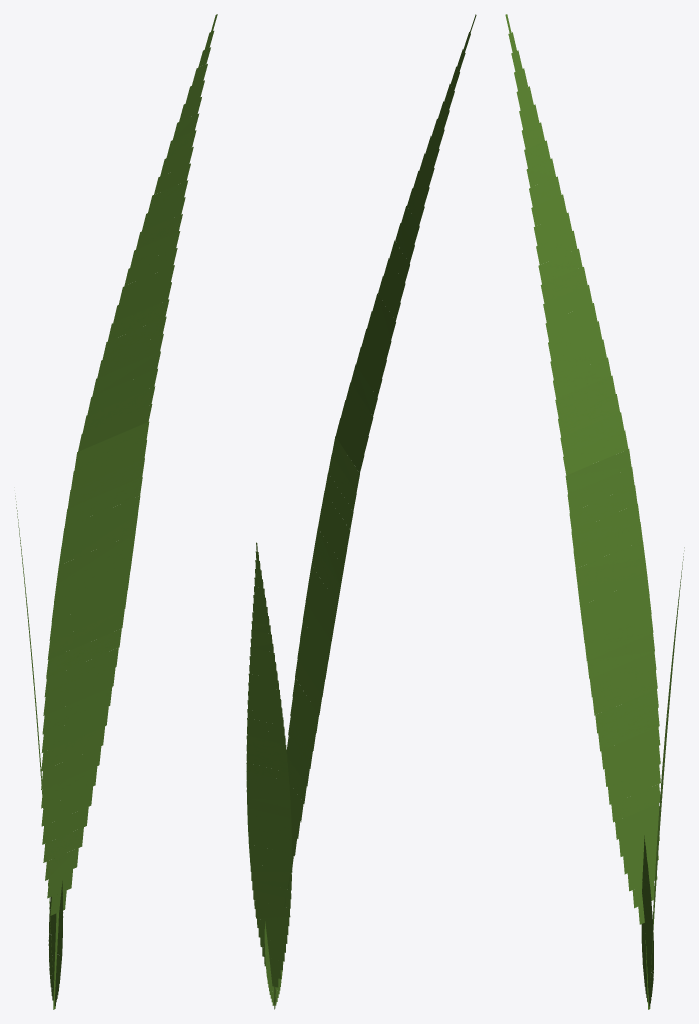
File: maize_002_day_035.dae
3 renders of one model, left to right at view 1: azimuth 90°, elevation 25°; view 2: azimuth 150°, elevation 25°; view 3: azimuth 270°, elevation 25°, orthographic. The views are drawn at different scales.
Visible parts, largest first — view 1: node; view 2: node; view 3: node.
Boxes of the visible parts, left/top/right/bottom form: node: left=15, top=14, right=217, bottom=1009; node: left=246, top=14, right=476, bottom=1009; node: left=505, top=14, right=684, bottom=1009.
Size of the model in its own units: 0.0328 by 0.2033 by 0.0353.
Materials: 1 (1 with a texture image).
